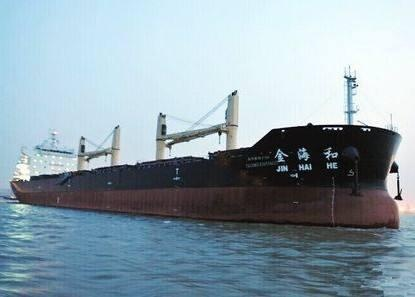Cargoship: (2, 57, 409, 224)
